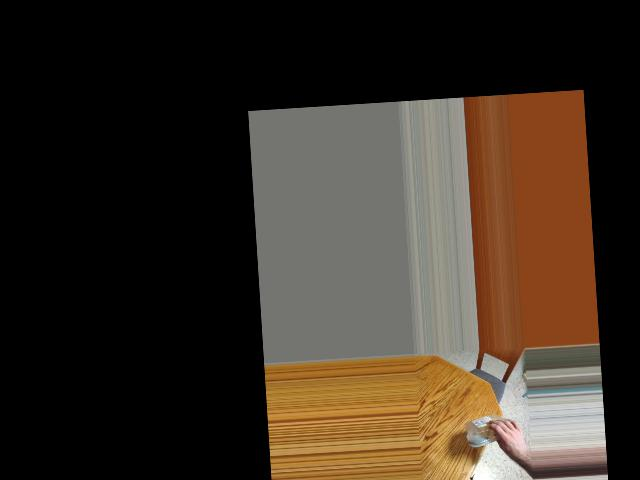cheese: (473, 412, 519, 451)
